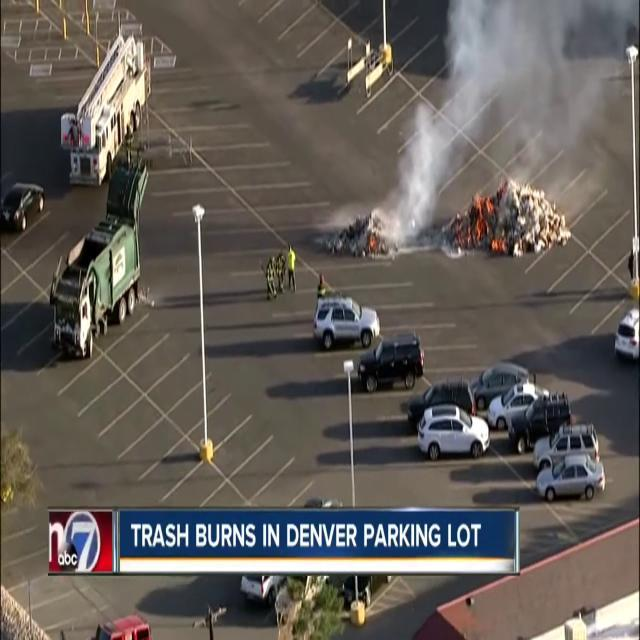Smoke: (375, 0, 635, 244)
